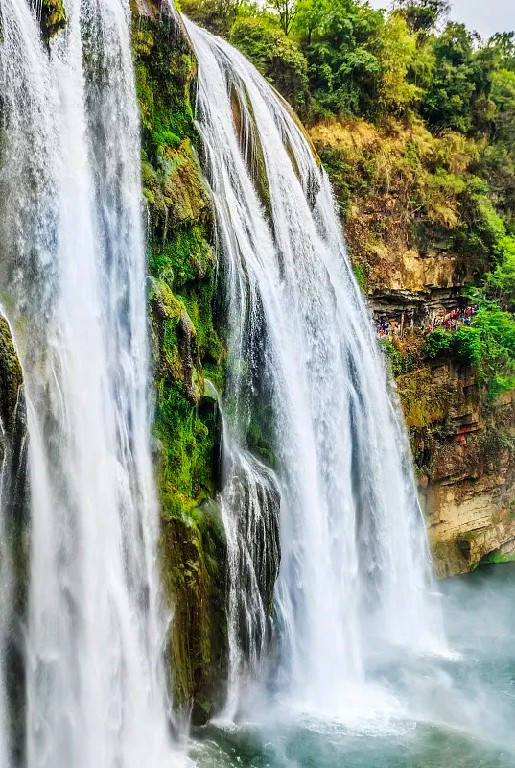Huangguoshu: (1, 1, 446, 768)
